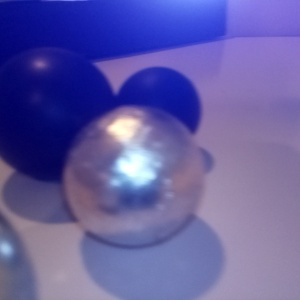alive_ball: (63, 104, 205, 248)
dead_ball: (1, 47, 116, 182), (111, 66, 201, 150)
